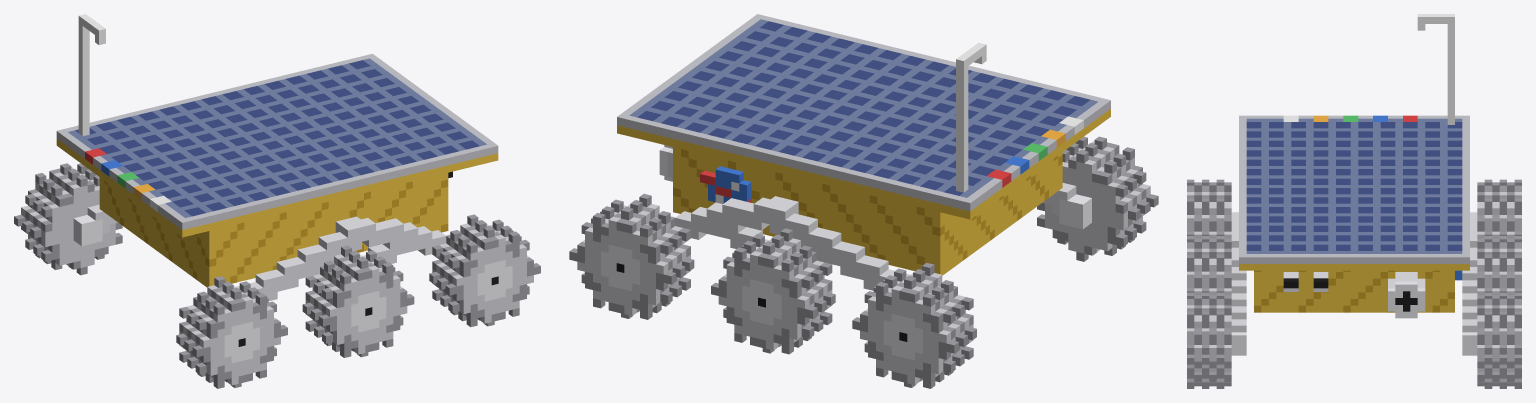
File: Sojourner.glb
3 renders of one model, left to right at view 1: azimuth 30°, elevation 25°; view 2: azimuth 150°, elevation 25°; view 3: azimuth 270°, elevation 25°, orthographic. The views are drawn at different scales.
Parts seen in each view (by area): view 1: Sojourner_Voxel; view 2: Sojourner_Voxel; view 3: Sojourner_Voxel.
Part boxes in pixels (box(x1,y1,x2,y2)): Sojourner_Voxel: box(14, 14, 540, 388); Sojourner_Voxel: box(569, 14, 1158, 388); Sojourner_Voxel: box(1187, 14, 1521, 388).
Size of the model in its own units: 2.74 by 2.07 by 2.51.
